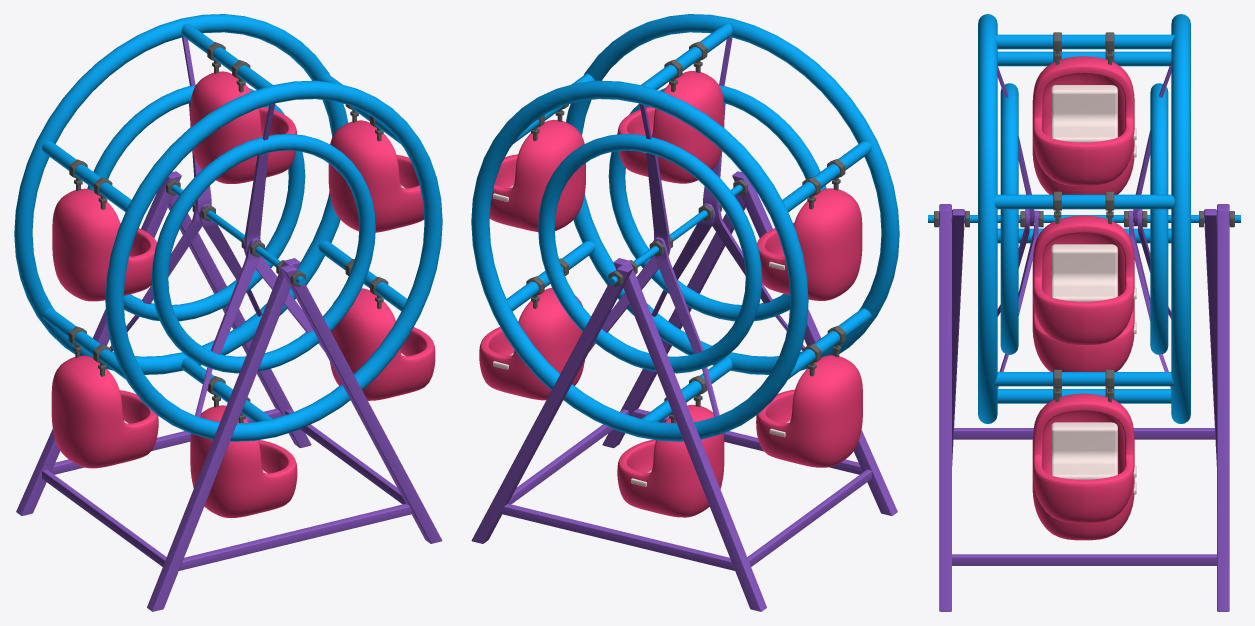
Rendered from Public_14_Circus_Ferris_wheel_1.glb.
The picture shows the model from 3 angles, left to right: view 1: azimuth 30°, elevation 25°; view 2: azimuth 150°, elevation 25°; view 3: azimuth 270°, elevation 25°; orthographic projection. The views are drawn at different scales.
Visible parts, largest first — view 1: Public_14_Circus_Ferris_wheel_1; view 2: Public_14_Circus_Ferris_wheel_1; view 3: Public_14_Circus_Ferris_wheel_1.
Part boxes in pixels (left/top/right/bottom): Public_14_Circus_Ferris_wheel_1: left=14, top=14, right=442, bottom=611; Public_14_Circus_Ferris_wheel_1: left=471, top=14, right=899, bottom=611; Public_14_Circus_Ferris_wheel_1: left=928, top=14, right=1240, bottom=611.
Size of the model in its own units: 8.21 by 10.19 by 5.73.
1 material, 1 textured.
